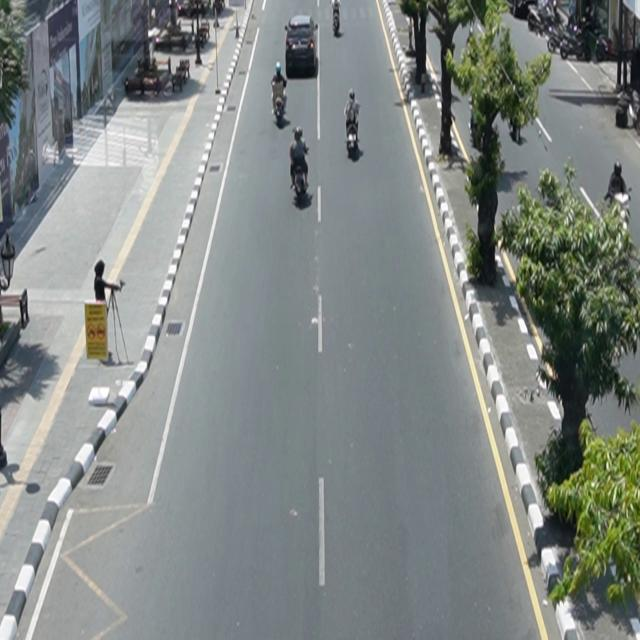car: (286, 15, 320, 79)
